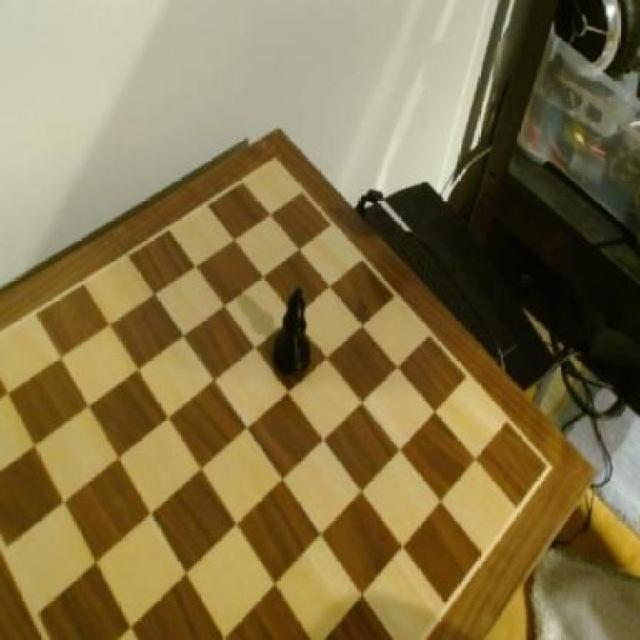bishop: (274, 280, 315, 385)
